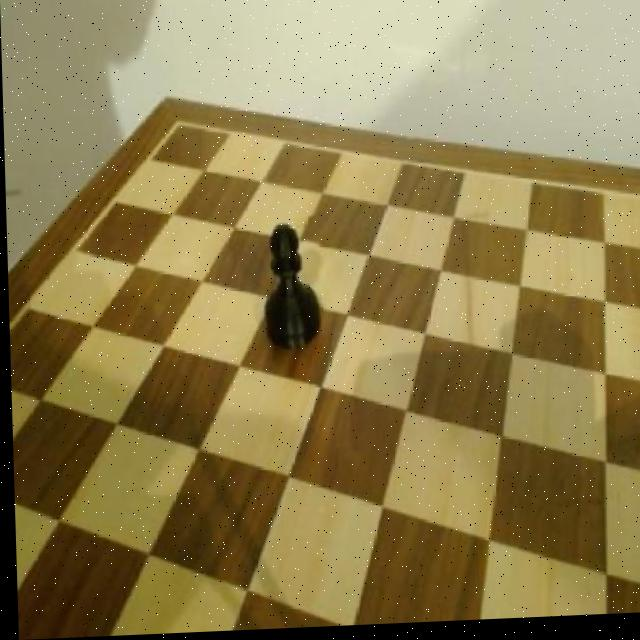black-knight: (256, 220, 322, 359)
